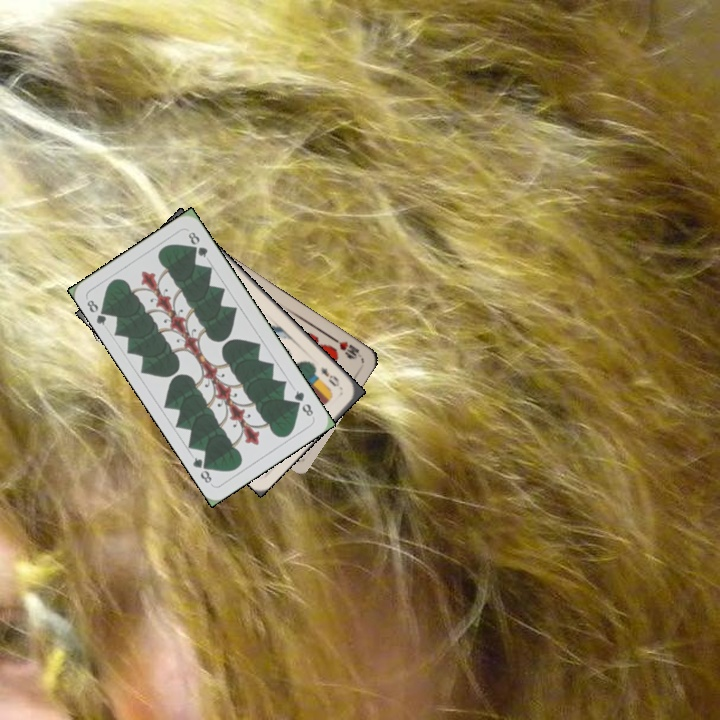EO: (317, 363, 345, 392)
G8: (82, 296, 112, 328), (290, 386, 316, 419)
H10: (328, 333, 362, 362)
